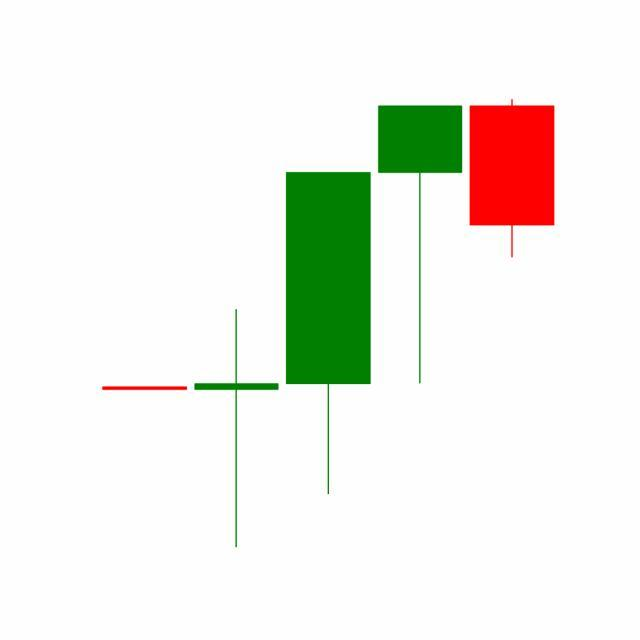Hanging Man: (374, 104, 468, 388)
